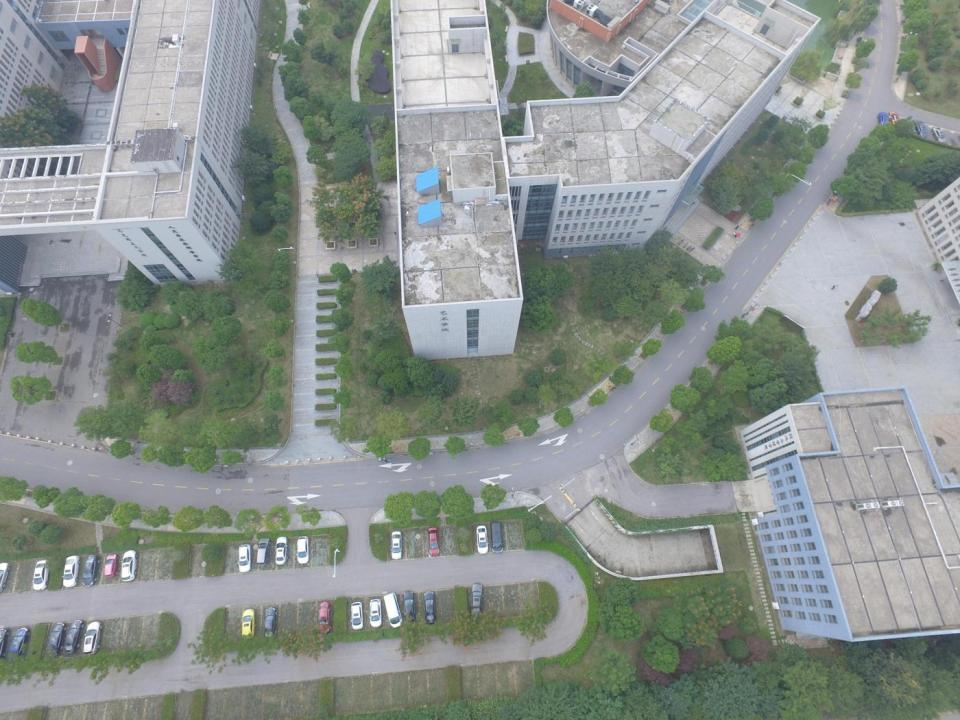car: (8, 628, 30, 662), (46, 623, 66, 657), (64, 620, 84, 653), (83, 621, 102, 655), (32, 559, 50, 591), (62, 555, 80, 587), (82, 555, 100, 586), (121, 550, 137, 582), (470, 582, 482, 619), (403, 590, 416, 624), (241, 609, 256, 638), (423, 592, 436, 624), (368, 599, 382, 628), (238, 544, 252, 572), (274, 537, 288, 565), (318, 601, 330, 633), (351, 601, 364, 630), (476, 525, 489, 554), (296, 536, 309, 564), (390, 531, 403, 559), (428, 526, 441, 554), (264, 608, 276, 638), (103, 554, 118, 577), (0, 561, 10, 593), (931, 127, 946, 145), (877, 112, 891, 131), (888, 112, 902, 130), (903, 117, 916, 136), (915, 121, 928, 139)
van: (384, 593, 402, 628), (490, 521, 504, 553), (256, 538, 271, 566)
